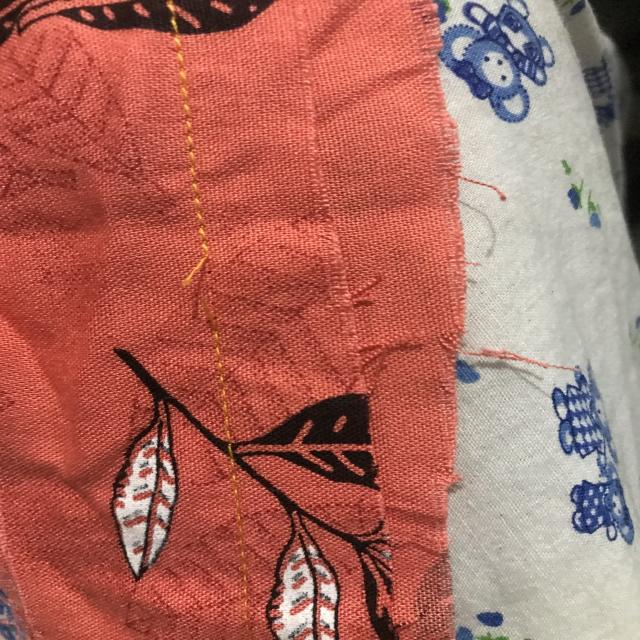broken: (165, 243, 245, 333)
good: (172, 103, 220, 202)
